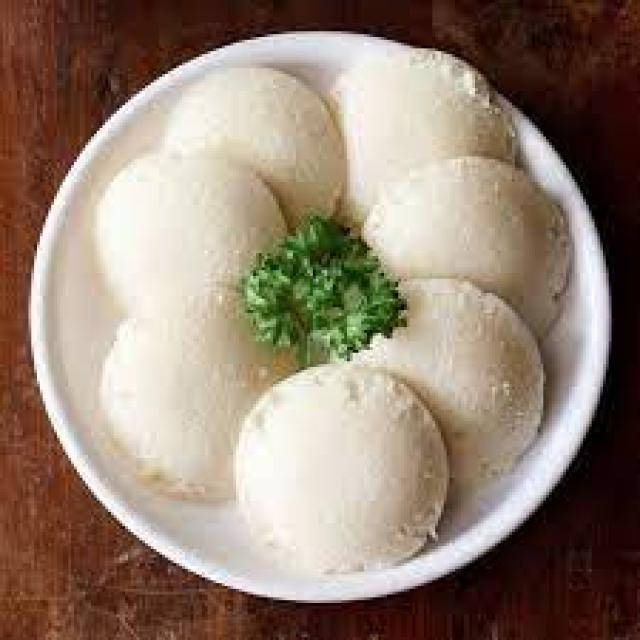Wet Waste: (219, 355, 458, 569), (100, 279, 310, 503), (336, 267, 538, 481), (358, 160, 578, 342), (322, 42, 509, 242), (82, 145, 296, 307), (165, 63, 350, 236)
